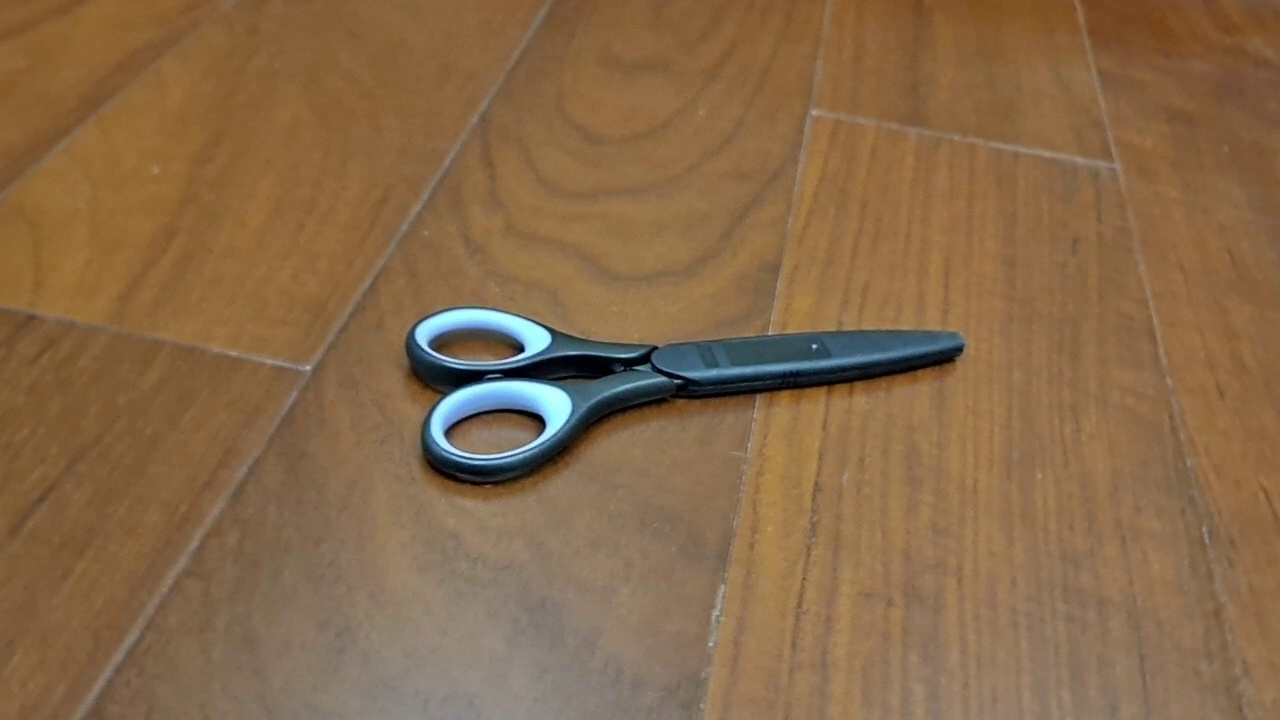scissors: (404, 305, 966, 487)
